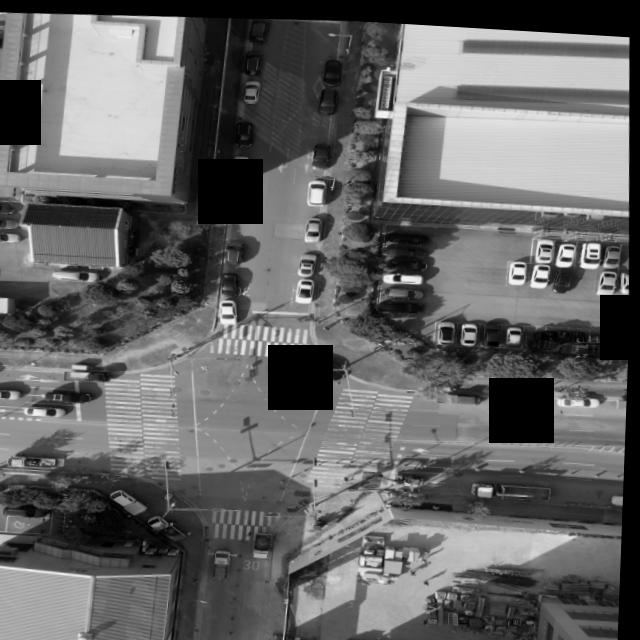car: (310, 350, 350, 378), (53, 264, 99, 282), (316, 81, 340, 111), (47, 388, 96, 402), (246, 14, 272, 40), (382, 240, 430, 254), (221, 268, 244, 295), (217, 296, 240, 322), (389, 252, 433, 265), (229, 182, 249, 210), (322, 53, 342, 81), (599, 260, 620, 286), (560, 386, 602, 399), (382, 295, 424, 308), (388, 226, 429, 239), (307, 175, 326, 203), (310, 138, 329, 166), (235, 116, 254, 144), (386, 264, 424, 278), (555, 235, 577, 259), (508, 252, 529, 277), (532, 256, 553, 280), (29, 403, 67, 416), (299, 247, 318, 273), (304, 211, 322, 238), (552, 261, 573, 284), (537, 230, 557, 254), (437, 314, 457, 338), (242, 75, 261, 100), (505, 387, 548, 398), (388, 282, 424, 295), (297, 274, 316, 298), (603, 235, 622, 259), (226, 238, 244, 262), (246, 49, 264, 73), (462, 317, 481, 339), (483, 317, 502, 339), (232, 151, 250, 174), (507, 320, 524, 337), (0, 388, 24, 400), (611, 484, 627, 498), (621, 261, 631, 283), (0, 229, 20, 240), (0, 215, 18, 227), (0, 200, 15, 212)
medium_truck: (474, 473, 556, 496)
small_truck: (147, 513, 190, 542), (111, 486, 153, 514), (11, 452, 65, 468), (256, 527, 278, 555), (68, 367, 112, 381), (440, 385, 484, 399), (216, 544, 236, 574)
